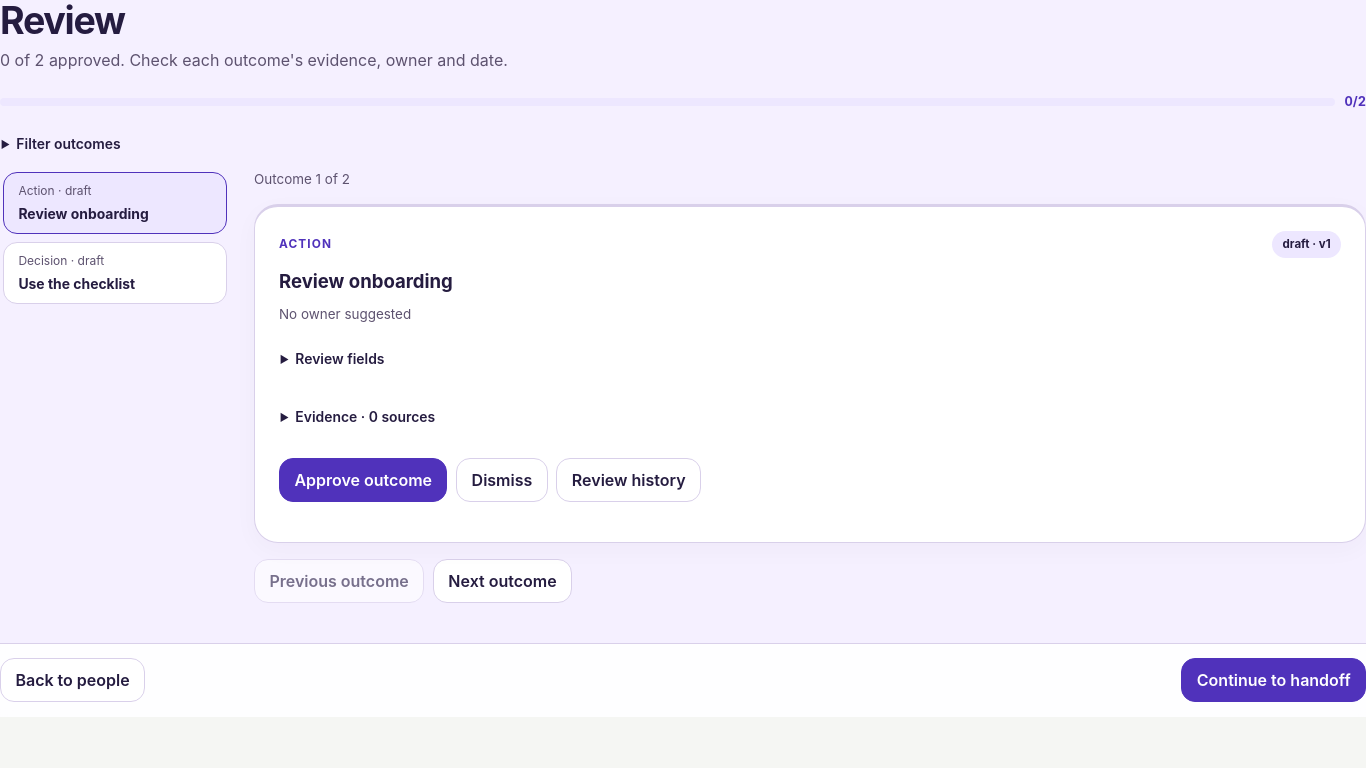
Test: shows finite save feedback only after the review request is acknowledged
What coordinates should you click on to do the following:
click the button "Approve outcome"
I would click on:
 (363, 480)
Its box is [279, 458, 447, 502].
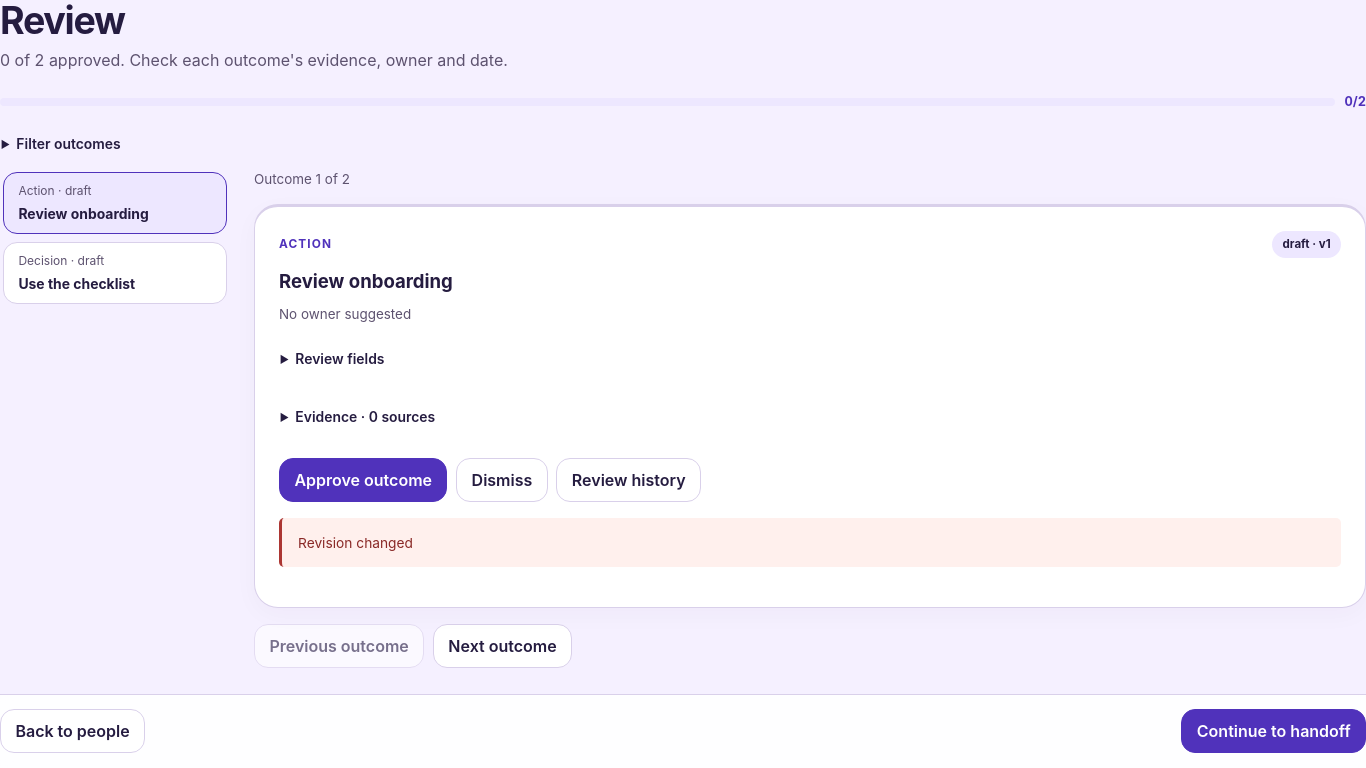
Check: the text "Review saved." is not shown
Check: the message "Revision changed" is shown, box [279, 518, 1341, 567]
What coordinates should you click on to do the following:
click the button "Approve outcome"
I would click on:
 (363, 480)
Its box is [279, 458, 447, 502].
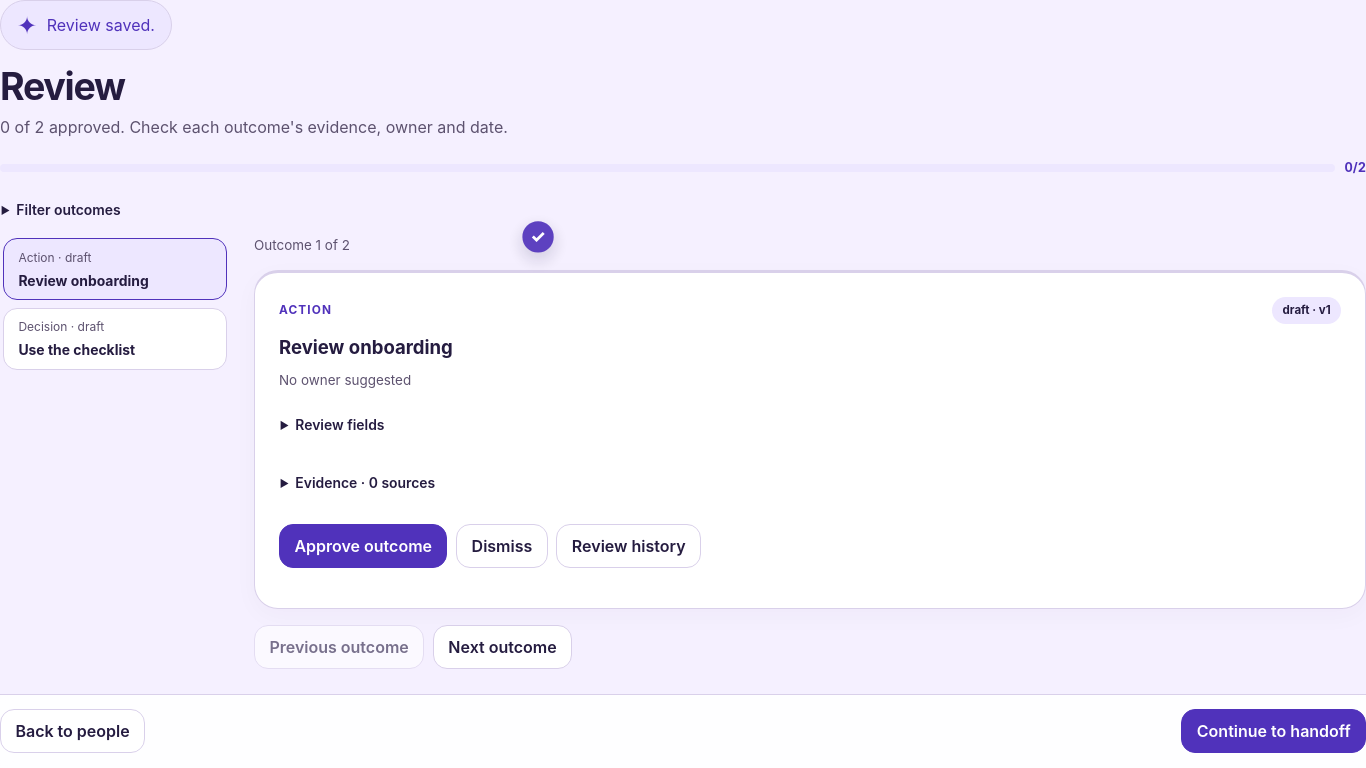
Check: the text "Review saved." is shown, box [47, 15, 155, 35]
